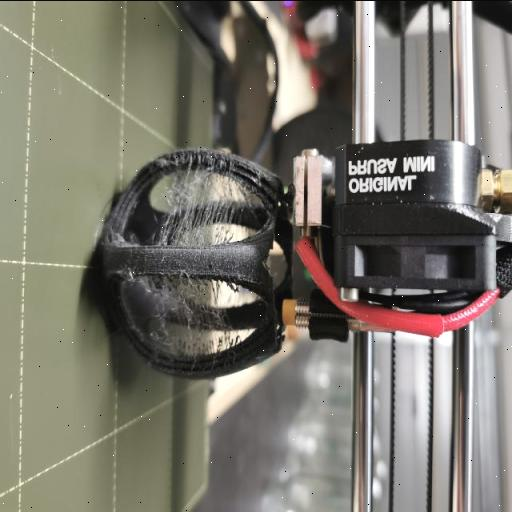stringing: (153, 158, 241, 252), (146, 273, 228, 365)
